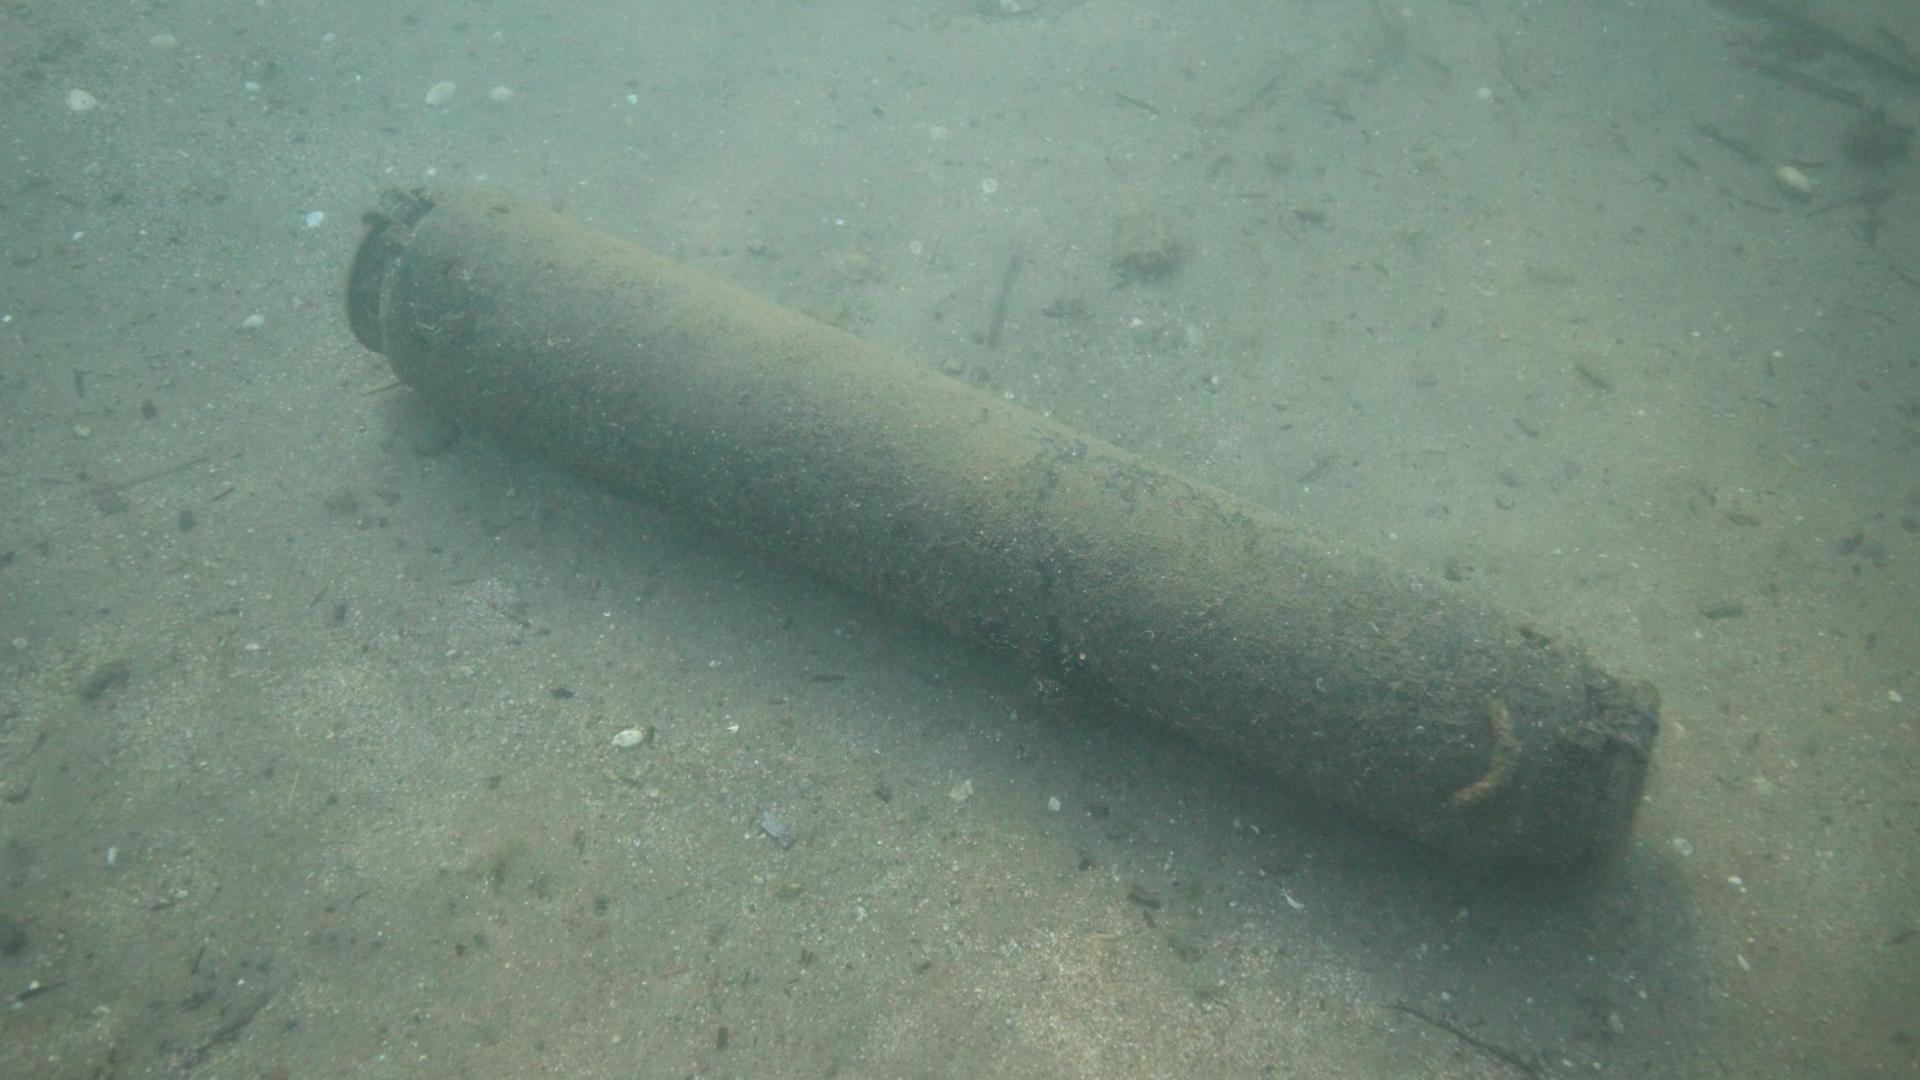eel fish trap: (340, 177, 1660, 886)
